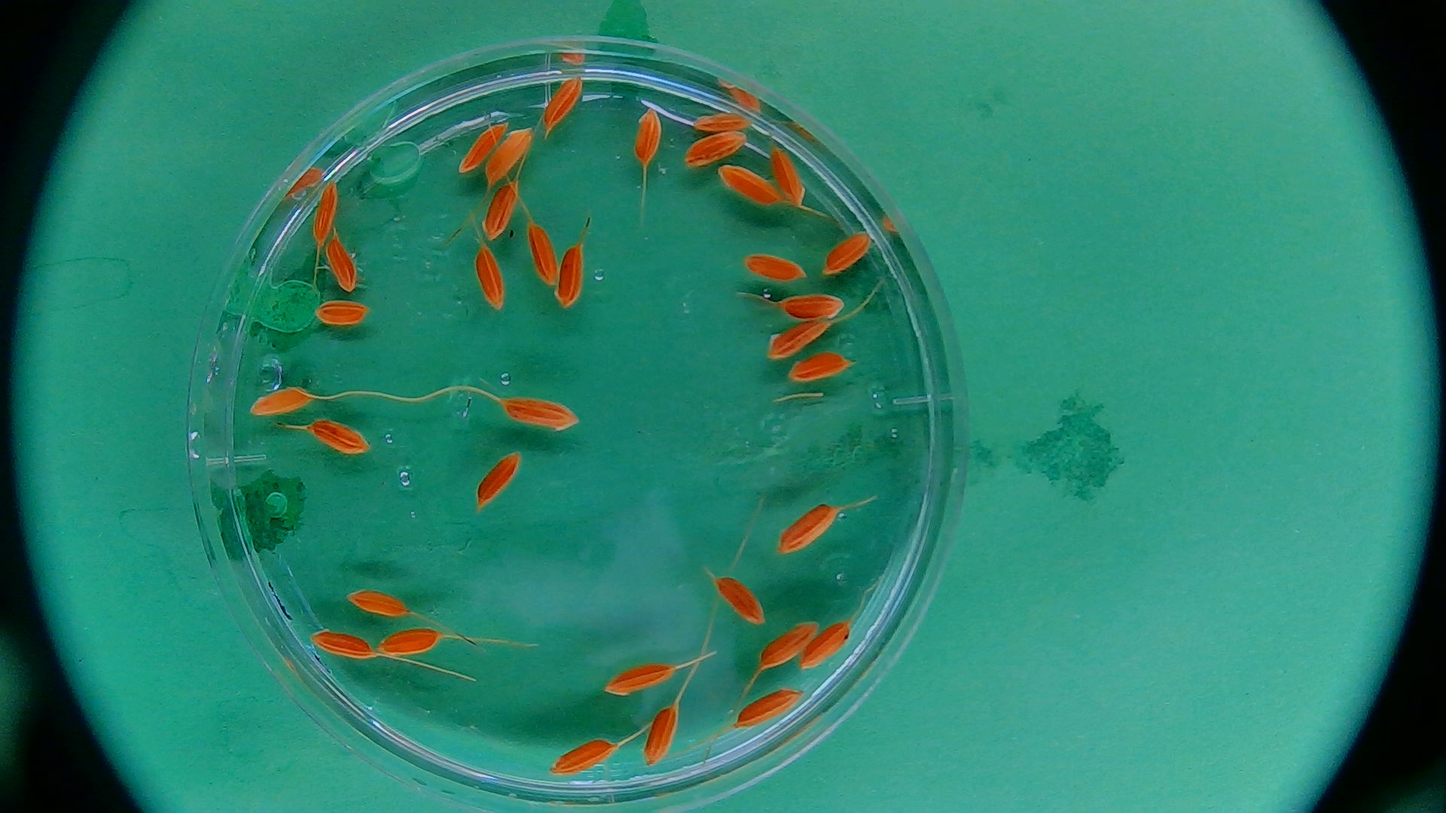no: (712, 158, 787, 218), (725, 684, 816, 726), (764, 141, 815, 214), (484, 125, 543, 187), (754, 621, 817, 670), (778, 286, 852, 327), (777, 504, 840, 552), (772, 286, 856, 321), (475, 454, 527, 510), (799, 623, 857, 672), (310, 627, 383, 665), (340, 588, 421, 622), (523, 221, 566, 285), (456, 117, 505, 173), (687, 101, 765, 136), (541, 72, 585, 134), (603, 661, 676, 698), (548, 736, 618, 774), (717, 575, 770, 625), (682, 130, 755, 166), (502, 397, 577, 432), (744, 247, 807, 288), (642, 701, 680, 768), (822, 230, 876, 276), (245, 386, 318, 420), (471, 244, 509, 309), (320, 231, 361, 291), (555, 242, 592, 308), (304, 183, 340, 249), (308, 416, 370, 454), (631, 104, 667, 169), (482, 180, 518, 243), (317, 296, 377, 330), (373, 626, 447, 653), (787, 354, 853, 382)
